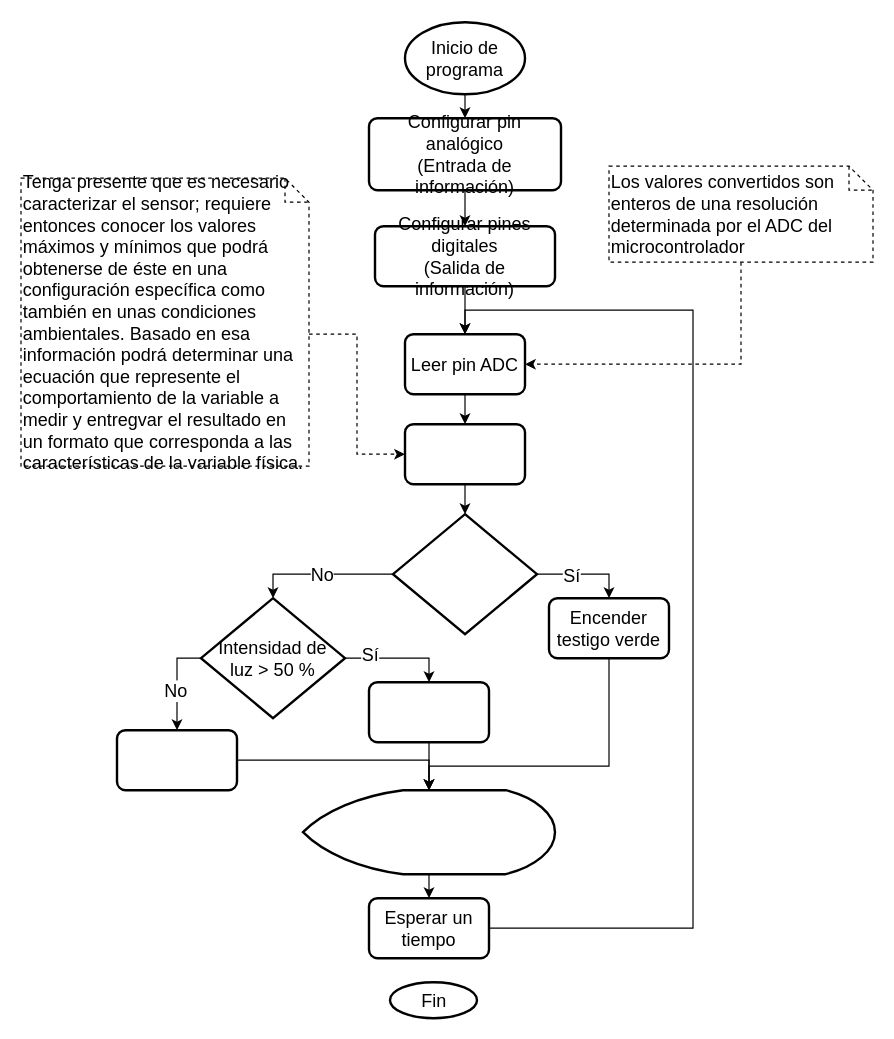
The diagram is 894 pixels wide and 1039 high, and some of its shapes have lost their labels. The box of each missing label's shape, as (x1, y1, x2, y2) in pixels:
Convertir el valor ADC a porcentaje: (403, 422, 526, 485)
Encender testigo amarillo: (367, 680, 490, 743)
Encender testigo rojo: (115, 728, 238, 791)
Intensidad de luz > 75 %: (391, 512, 538, 635)
Visualizar el valor de la intensidad de luz en pantalla: (301, 788, 556, 875)
